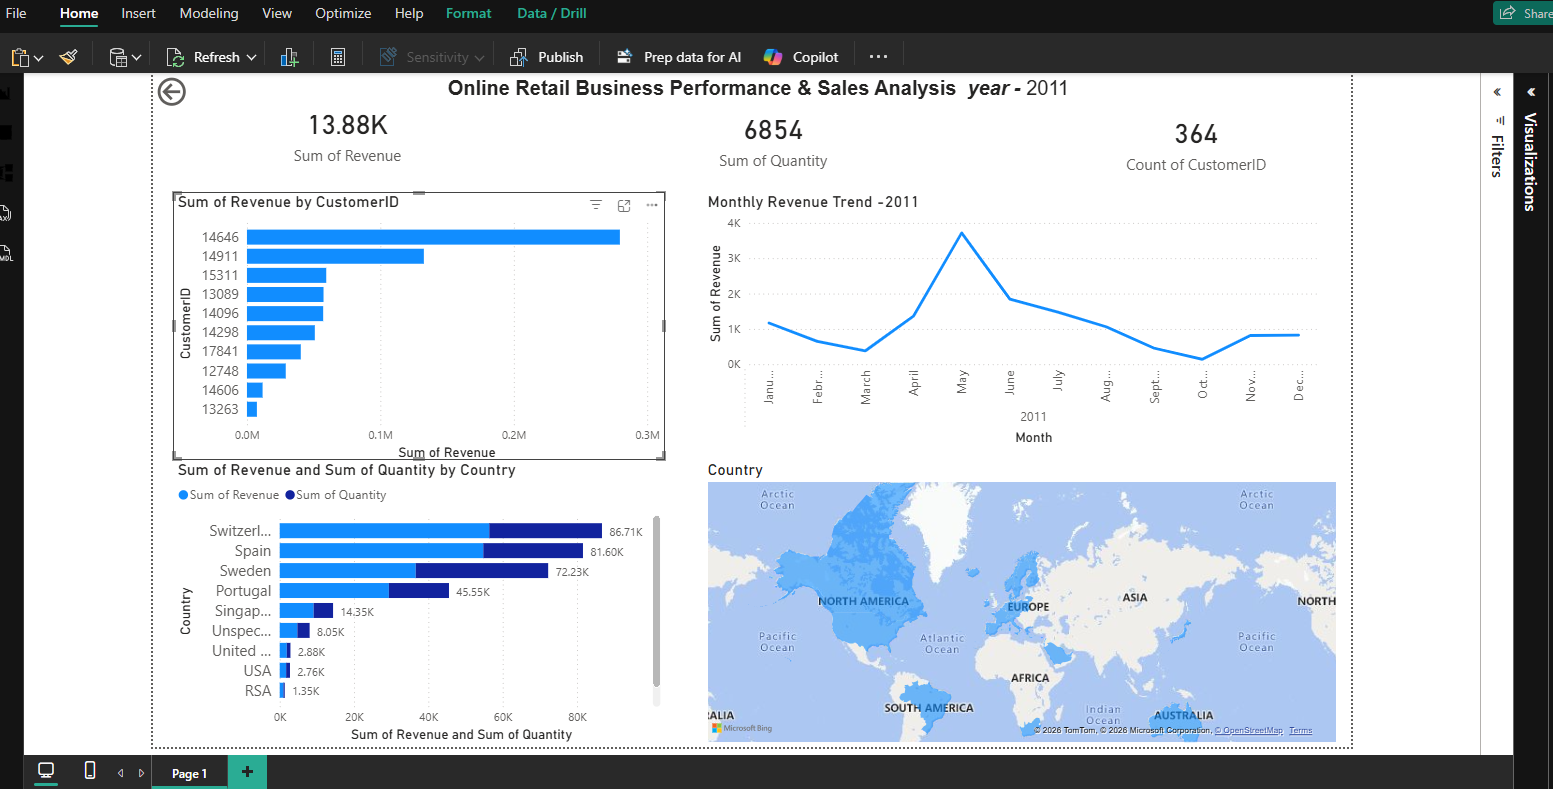

The page's visual inventory and layout, read from the dashboard file:
{"tool":"powerbi","page":{"name":"Page 1","canvas":[1280,720],"ordinal":0},"visuals":[{"type":"lineChart","title":"Monthly Revenue Trend -2011","fields":{"Y":["Sum(Online Retail.Revenue)"],"Category":["Online Retail.InvoiceDate.Variation.Date Hierarchy.Year","Online Retail.InvoiceDate.Variation.Date Hierarchy.Month"]},"box":[587.3,127.2,661.8,275],"z":0},{"type":"actionButton","box":[0,0,100,40],"z":1000},{"type":"barChart","fields":{"Category":["Online Retail.Country"],"Y":["Sum(Online Retail.Revenue)","Sum(Online Retail.Quantity)"]},"box":[21.8,413.8,525.6,305.9],"z":2000},{"type":"barChart","fields":{"Y":["Sum(Online Retail.Revenue)"],"Category":["Online Retail.CustomerID"]},"box":[21.8,127.2,525.6,286.6],"z":3000},{"type":"filledMap","fields":{"Category":["Online Retail.Country"]},"box":[587.3,413.8,681.1,305.9],"z":4000},{"type":"textbox","box":[309.7,0,705.5,39.8],"z":5000},{"type":"card","fields":{"Values":["Sum(Online Retail.Revenue)"]},"box":[119.5,20.6,176.1,87.4],"z":6000},{"type":"card","fields":{"Values":["Sum(Online Retail.Quantity)"]},"box":[569.3,29.6,186.3,78.4],"z":7000},{"type":"card","fields":{"Values":["CountNonNull(Online Retail.CustomerID)"]},"box":[1015.3,29.6,199.2,87.4],"z":8000}]}

Visuals, with their boxes on the page's 1280x720 design canvas (x1, y1, x2, y2). These are canvas units, not pixel positions in the 1553x789 screenshot, which may show the page scaled, cropped or inside an application window:
"Monthly Revenue Trend -2011" lineChart: BBox(587, 127, 1249, 402)
actionButton: BBox(0, 0, 100, 40)
barChart - Online Retail.Country x Sum(Online Retail.Revenue): BBox(22, 414, 547, 720)
barChart - Sum(Online Retail.Revenue) x Online Retail.CustomerID: BBox(22, 127, 547, 414)
filledMap - Online Retail.Country: BBox(587, 414, 1268, 720)
textbox: BBox(310, 0, 1015, 40)
card - Sum(Online Retail.Revenue): BBox(120, 21, 296, 108)
card - Sum(Online Retail.Quantity): BBox(569, 30, 756, 108)
card - CountNonNull(Online Retail.CustomerID): BBox(1015, 30, 1214, 117)
